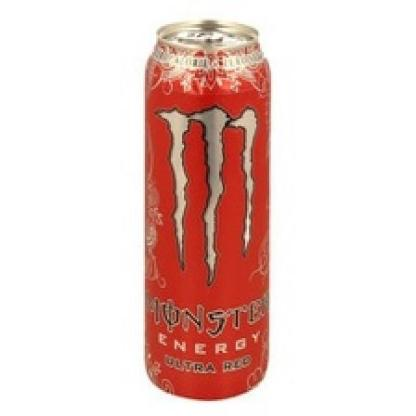Can: (143, 18, 272, 403)
